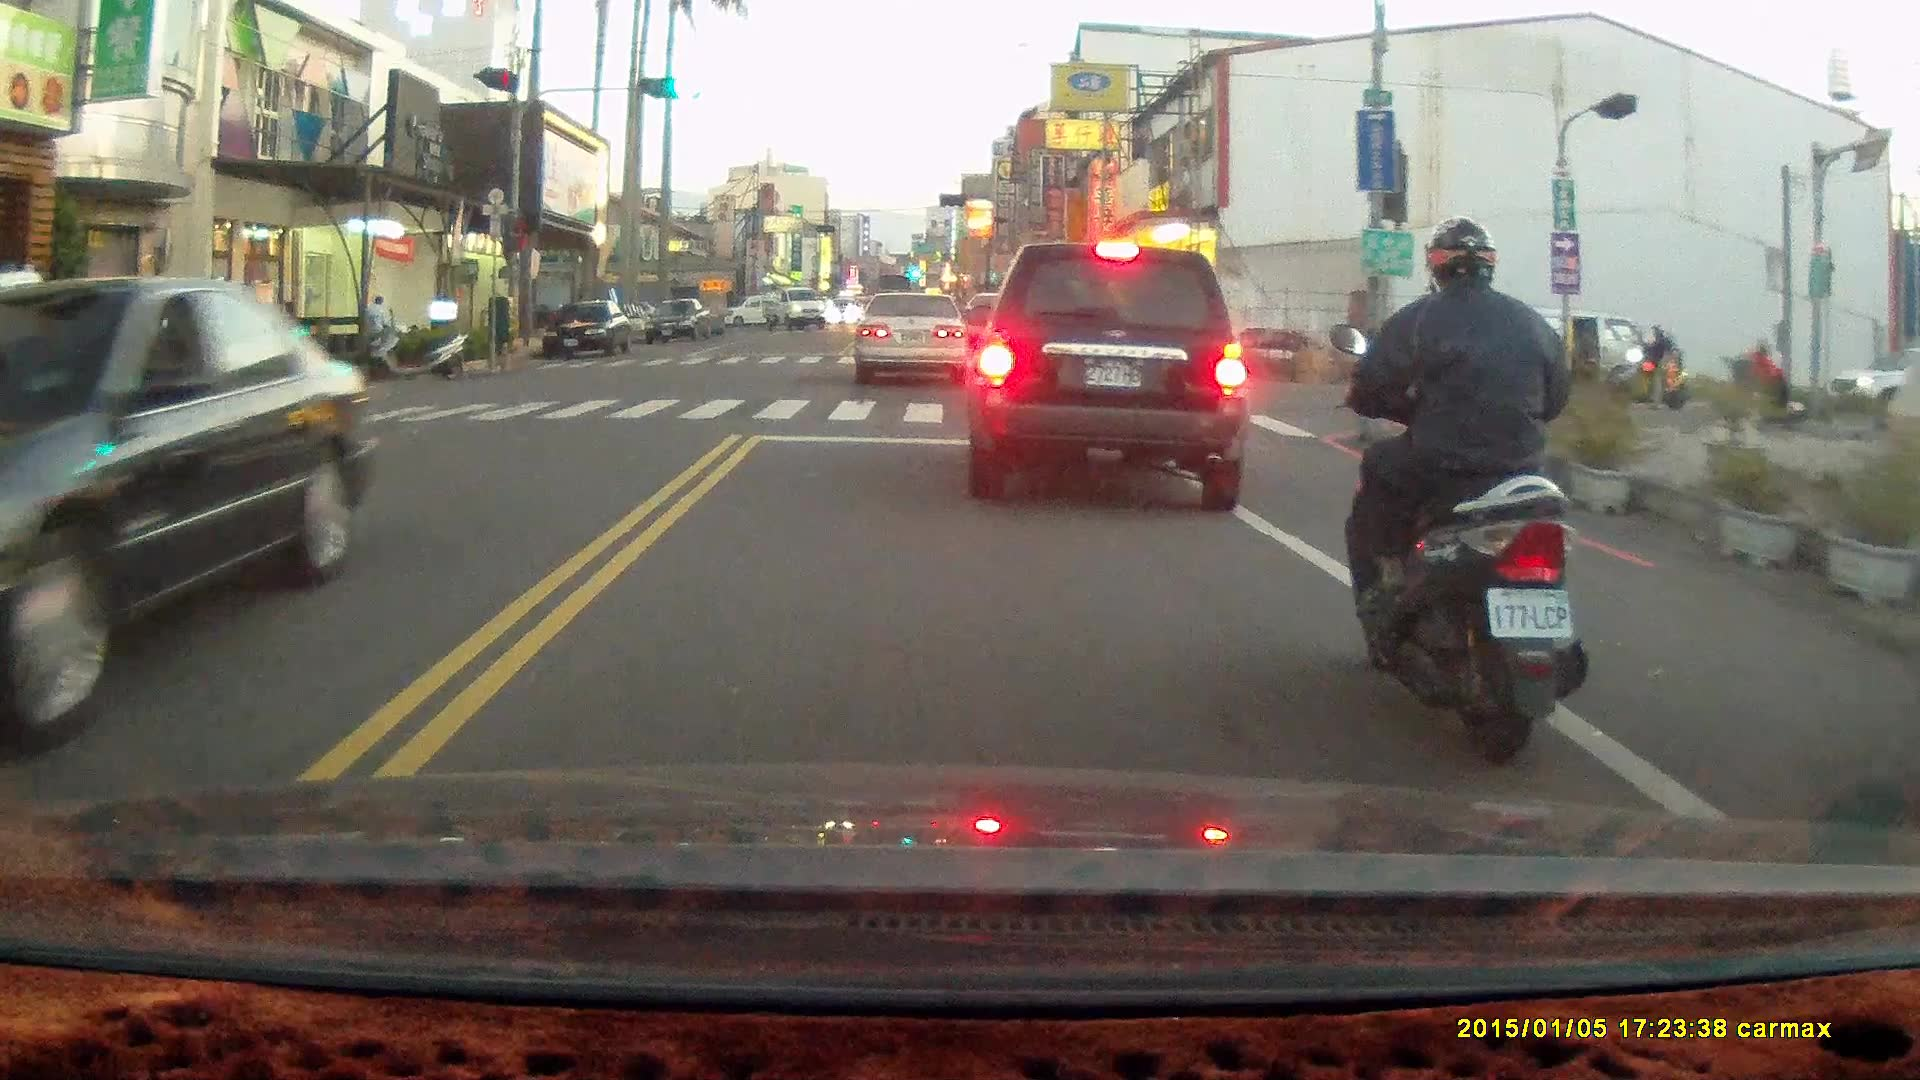pedestrian: (363, 292, 393, 361), (1574, 320, 1597, 389)
rider: (1327, 212, 1591, 762), (1722, 337, 1806, 433), (1616, 318, 1687, 408)
vehicle: (1, 275, 383, 754), (969, 237, 1250, 511), (857, 292, 970, 389), (542, 299, 638, 356), (643, 298, 711, 347)
